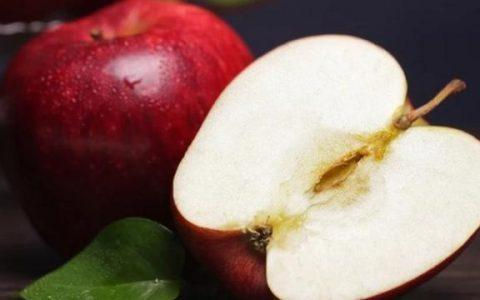apple: (173, 35, 480, 300), (1, 1, 254, 215)
